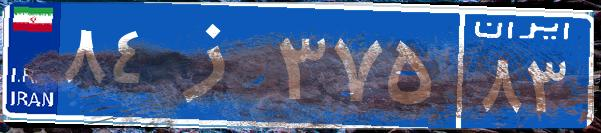3: (273, 28, 330, 110), (525, 38, 570, 115)
4: (110, 28, 158, 105)
5: (385, 28, 445, 110)
7: (330, 28, 385, 110)
8: (57, 26, 110, 107), (475, 38, 525, 113)
ز: (158, 15, 273, 115)
